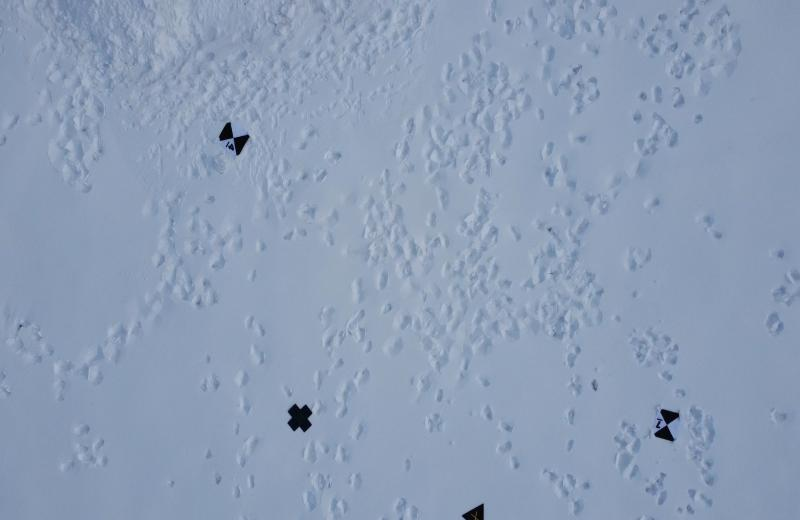Cross: (284, 401, 316, 436)
